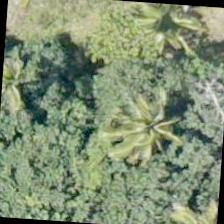Kelapa_Sawit: (104, 75, 200, 171)
